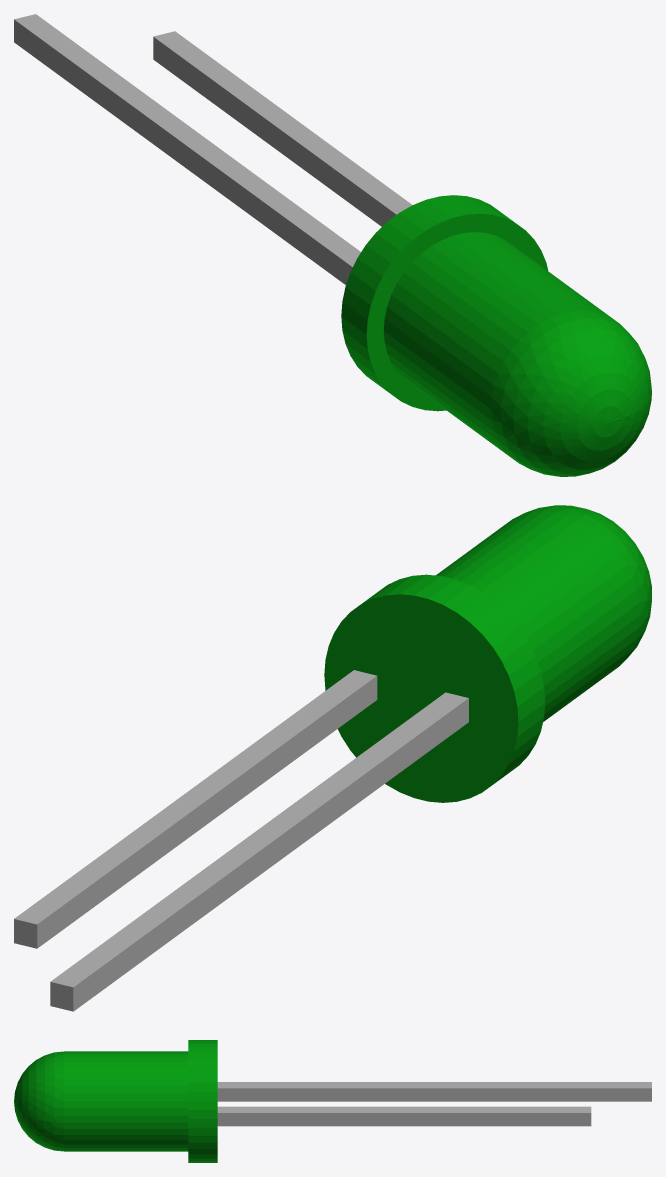
Rendered from led_3mm.glb.
3 renders of one model, top to bottom at view 1: azimuth 30°, elevation 25°; view 2: azimuth 150°, elevation 25°; view 3: azimuth 270°, elevation 25°, orthographic. The views are drawn at different scales.
Parts seen in each view (by area): view 1: lens, pin_pos, pin_neg; view 2: lens, pin_pos, pin_neg; view 3: lens, pin_pos, pin_neg.
Boxes of the visible parts, x1,y1,x2,y2 form: lens: [341, 195, 651, 476]; pin_pos: [14, 14, 360, 284]; pin_neg: [153, 31, 412, 226]; lens: [324, 505, 651, 802]; pin_pos: [50, 692, 468, 1011]; pin_neg: [14, 670, 377, 948]; lens: [14, 1040, 217, 1162]; pin_pos: [217, 1082, 651, 1101]; pin_neg: [217, 1106, 591, 1126].
Size of the model in its own units: 0.00369 by 0.00368 by 0.0191.
